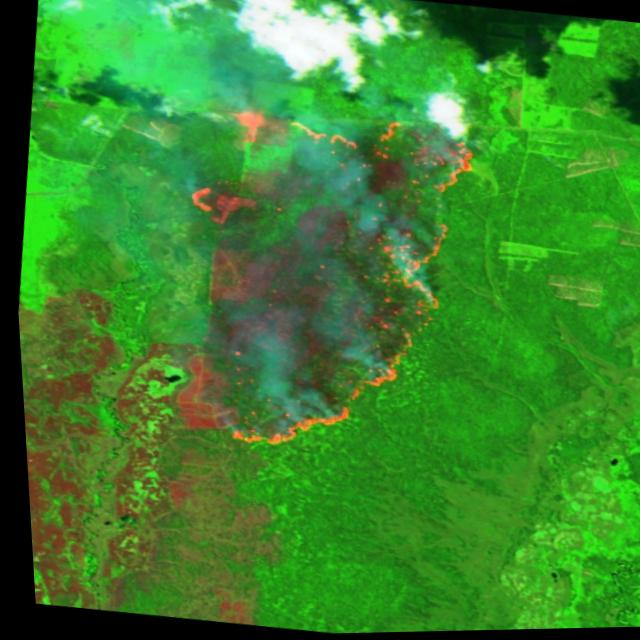fire: (140, 91, 493, 478)
